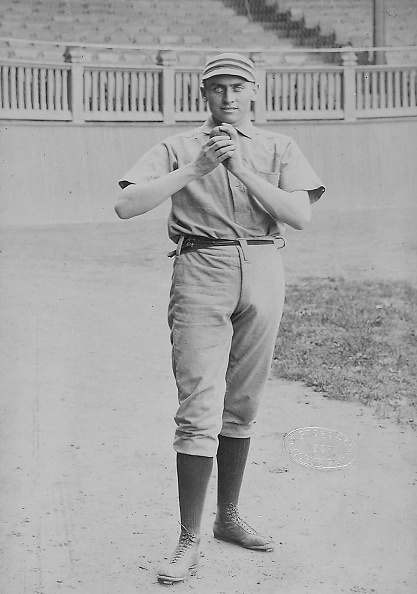em pe: (103, 36, 323, 574)
